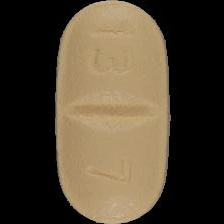21695-862: (0, 0, 224, 224)
